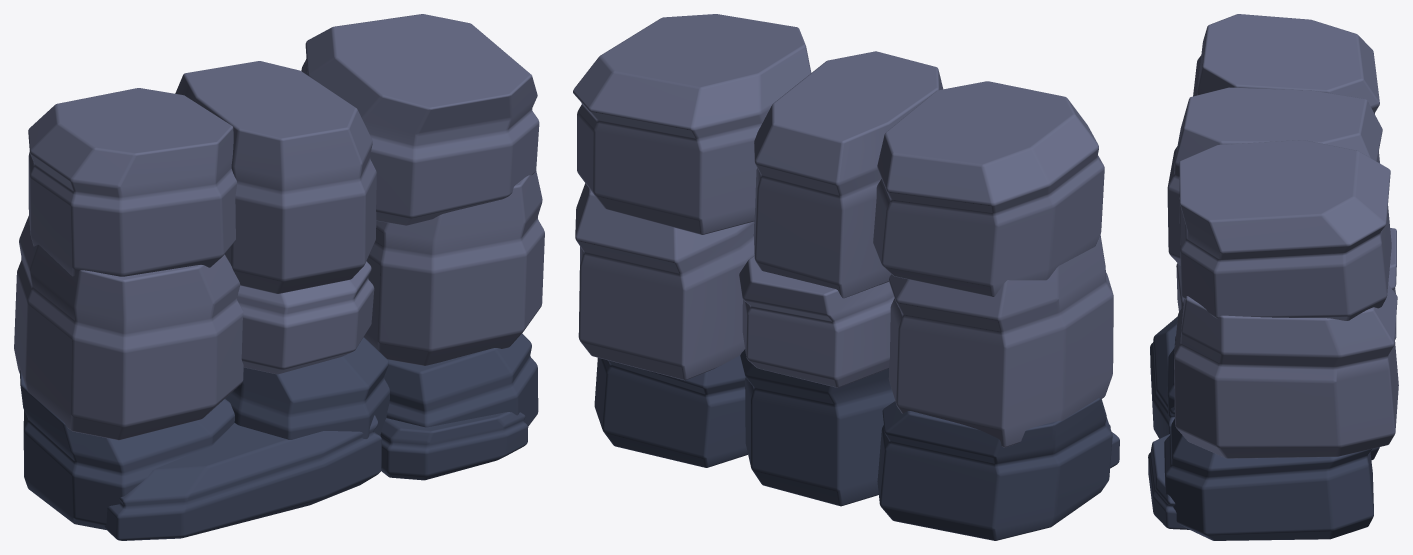
File: SM_CC_RockWall_A.fbx
3 views of the same model, side by side, from view 1: azimuth 30°, elevation 25°; view 2: azimuth 150°, elevation 25°; view 3: azimuth 270°, elevation 25° (orthographic). The views are drawn at different scales.
Parts seen in each view (by area): view 1: SM_CC_RockWall_A; view 2: SM_CC_RockWall_A; view 3: SM_CC_RockWall_A.
Part boxes in pixels (x1,y1,x2,y2): SM_CC_RockWall_A: (14, 14, 544, 540); SM_CC_RockWall_A: (573, 14, 1119, 540); SM_CC_RockWall_A: (1148, 14, 1398, 540).
Size of the model in its own units: 4 by 2 by 3.
